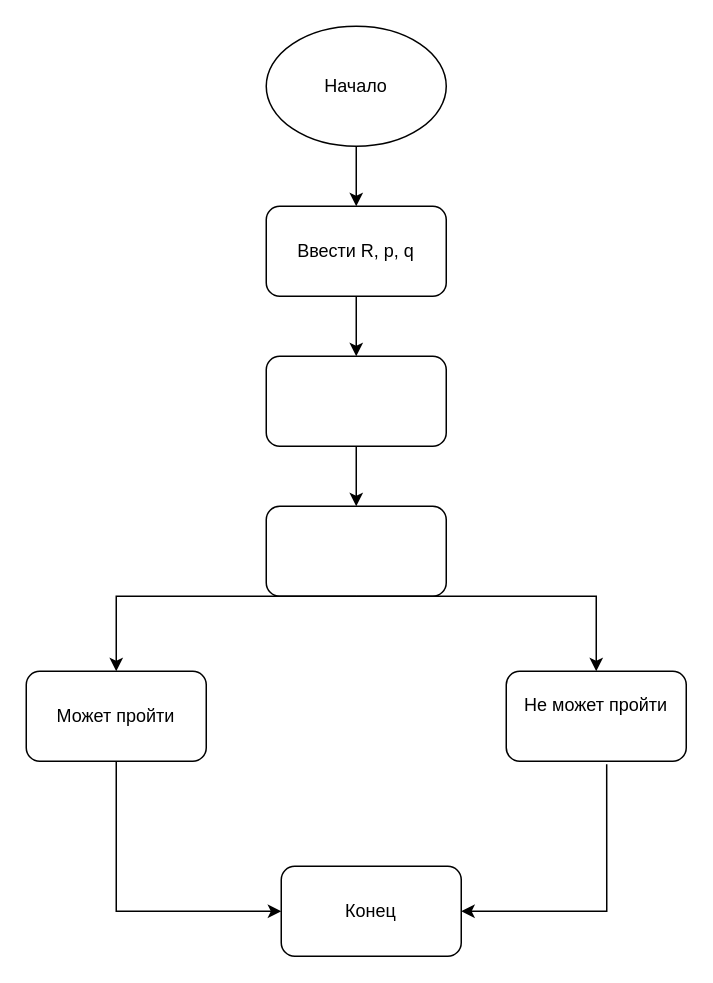
This 713x983 diagram has some shape labels left out. Here are the shapes that lost their labels. From the top down, the centre of each, then its label:
At (x=355, y=400): "h = (p*q)/√(p²+q²)│".
At (x=355, y=550): "2R ≤ h?".
